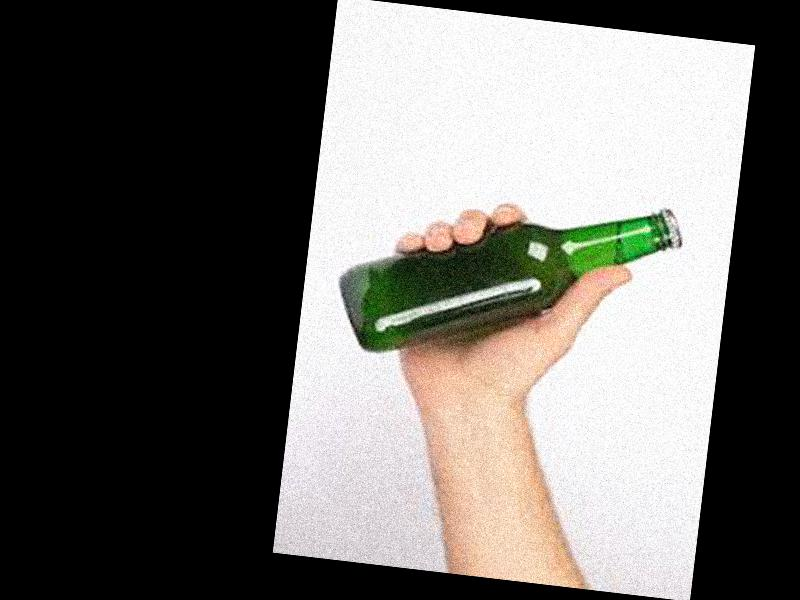Beer: (335, 173, 687, 387)
